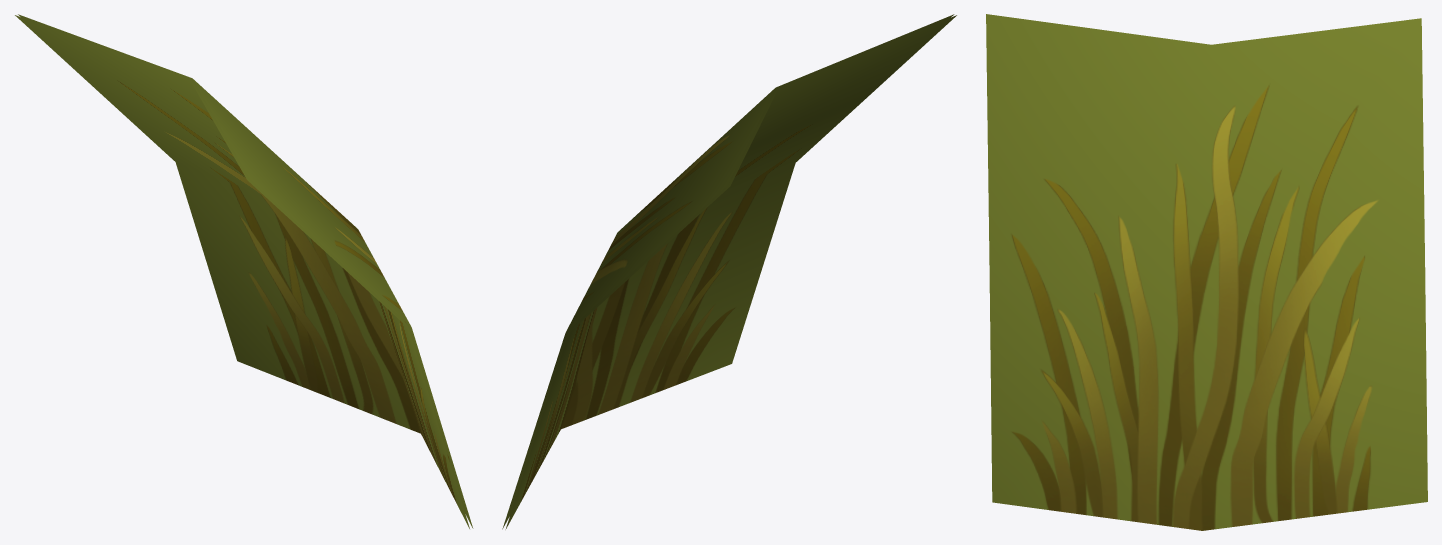
The model's file is grass_03.fbx.
3 views of the same model, side by side, from view 1: azimuth 30°, elevation 25°; view 2: azimuth 150°, elevation 25°; view 3: azimuth 270°, elevation 25° (orthographic). The views are drawn at different scales.
Visible parts, largest first — view 1: grass_03; view 2: grass_03; view 3: grass_03.
Part boxes in pixels (<box>): grass_03: <box>15,14,473,528</box>; grass_03: <box>502,14,956,529</box>; grass_03: <box>986,14,1427,530</box>.
Size of the model in its own units: 1.14 by 1.52 by 1.58.
